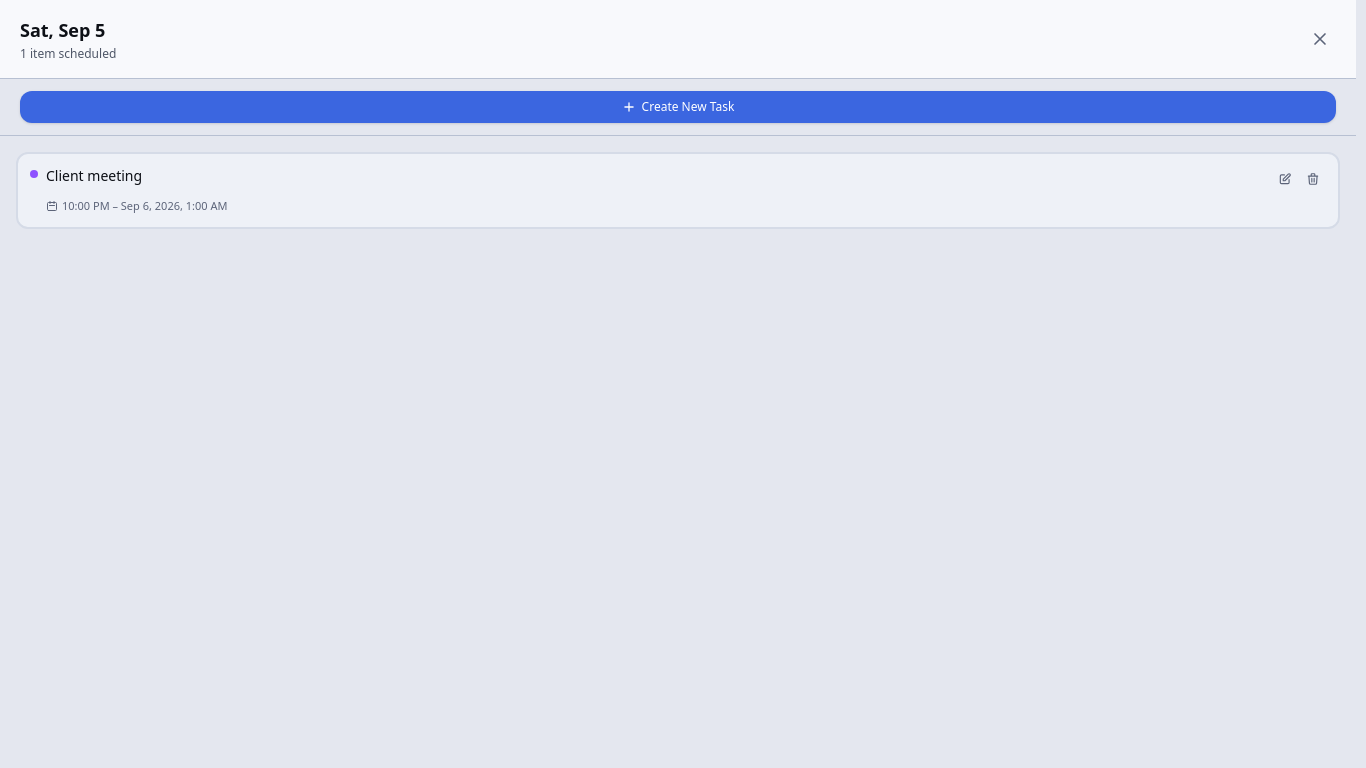
Test: event popup: when › dates both ends of a timed event that runs past midnight
Click the heading "Client meeting" at (94, 176), box [46, 166, 142, 186]
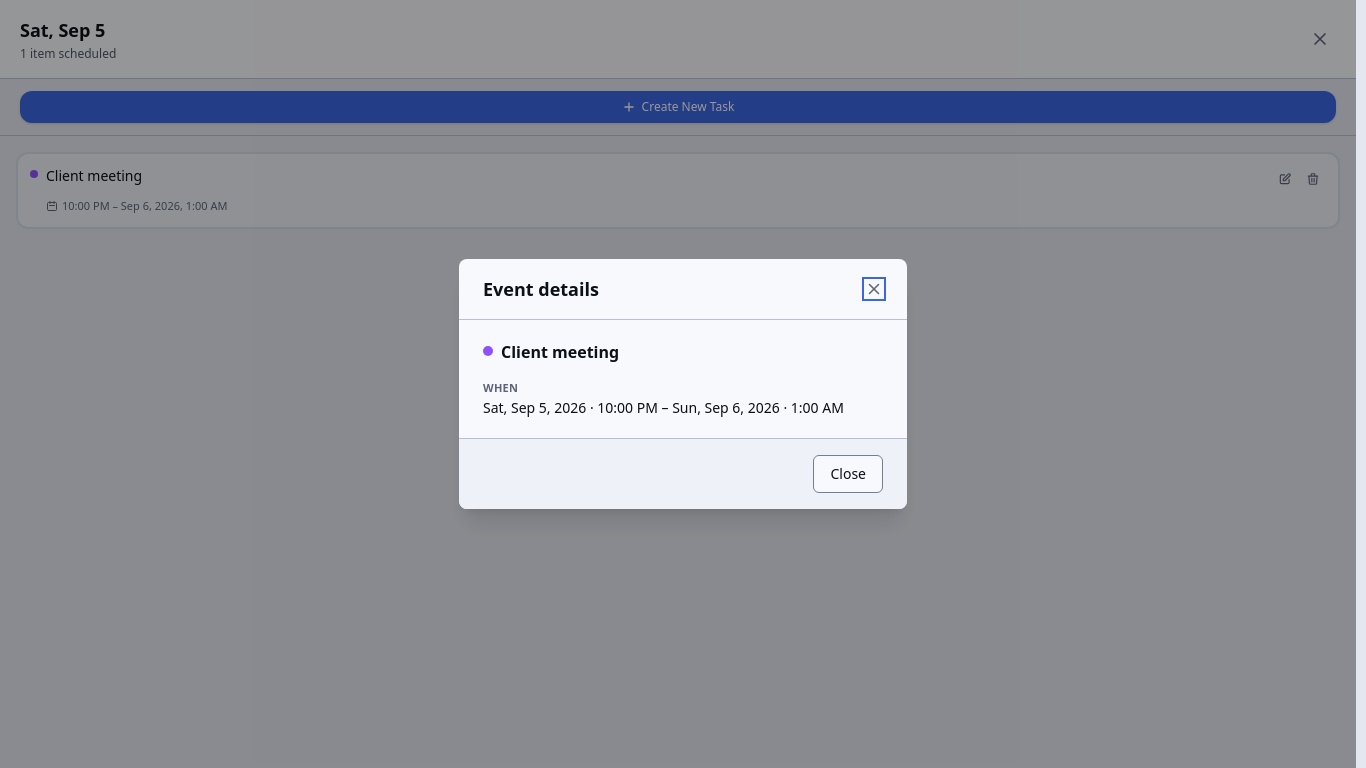
Check: the text "Sat, Sep 5, 2026 · 10:00 PM – Sun, Sep 6, 2026 · 1:00 AM" is shown, box [483, 398, 883, 418]
